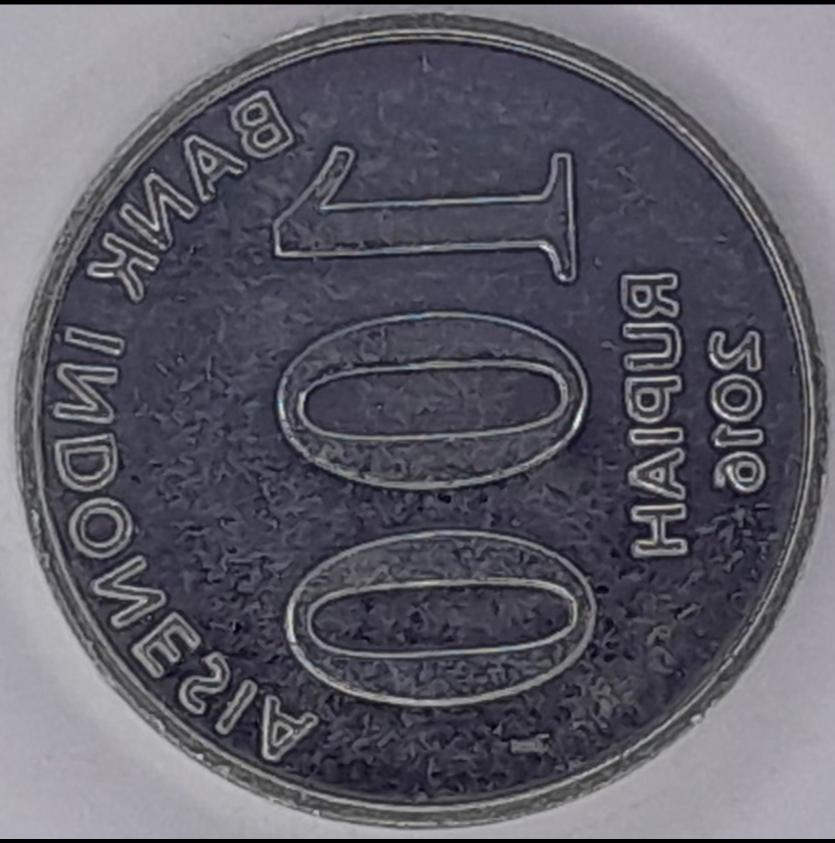coin_100_e2016: (9, 9, 833, 829)
